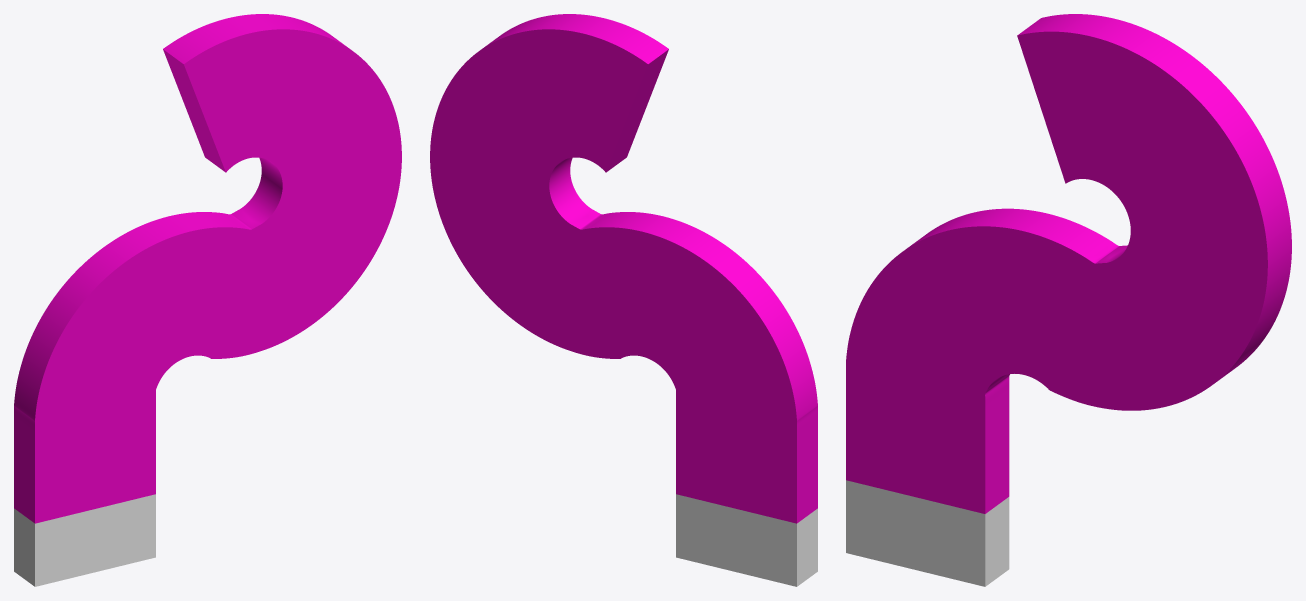
Rendered from serial_test_example_fn_std-sketch-sweep11_output.gltf.
3 views of the same model, side by side, from view 1: azimuth 30°, elevation 25°; view 2: azimuth 150°, elevation 25°; view 3: azimuth 330°, elevation 25° (orthographic). The views are drawn at different scales.
Size of the model in its own units: 0.0303 by 0.0396 by 0.003.
